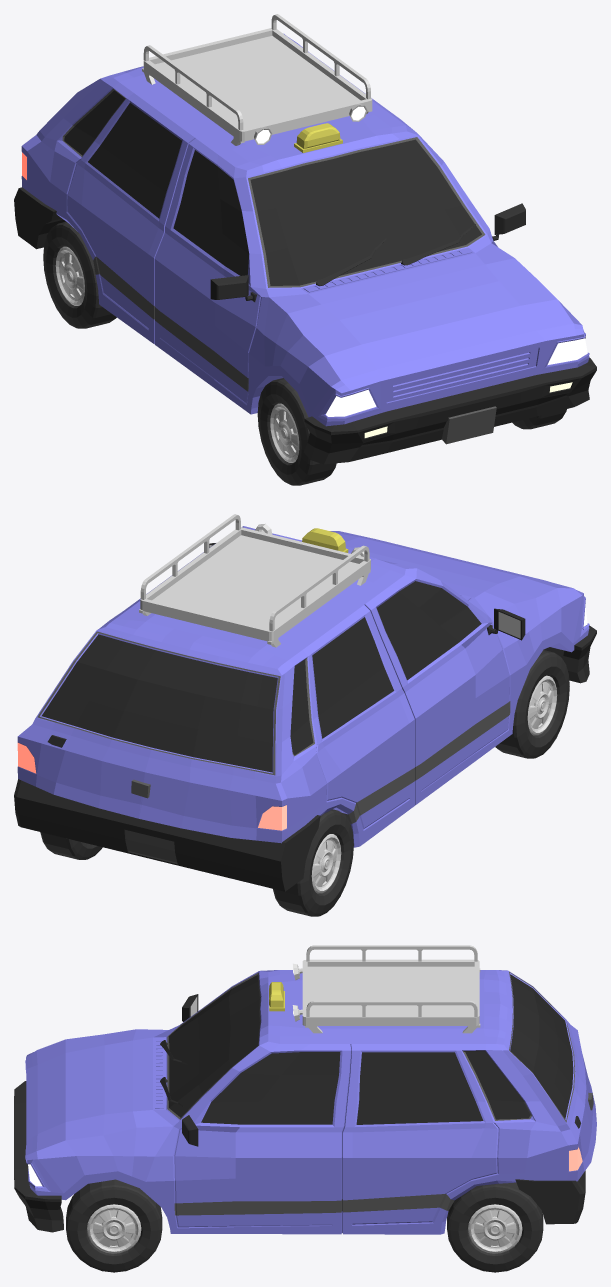
File: LowpolyCar.gltf
The picture shows the model from 3 angles, top to bottom: view 1: azimuth 30°, elevation 25°; view 2: azimuth 150°, elevation 25°; view 3: azimuth 270°, elevation 25°; orthographic projection. The views are drawn at different scales.
Visible parts, largest first — view 1: Car Body, Wheel_FR, Wheel_BR; view 2: Car Body, Wheel_FR, Wheel_BR, Wheel_BL; view 3: Car Body, Wheel_FL, Wheel_BL.
Boxes of the visible parts, left/top/right/bottom form: Car Body: left=14, top=14, right=596, bottom=464; Wheel_FR: left=257, top=378, right=336, bottom=485; Wheel_BR: left=43, top=221, right=116, bottom=328; Car Body: left=14, top=514, right=596, bottom=891; Wheel_FR: left=495, top=650, right=569, bottom=758; Wheel_BR: left=273, top=809, right=353, bottom=916; Wheel_BL: left=40, top=832, right=102, bottom=859; Car Body: left=14, top=945, right=596, bottom=1234; Wheel_FL: left=66, top=1179, right=162, bottom=1272; Wheel_BL: left=447, top=1182, right=543, bottom=1272.
Bounding box in the file's own units: 1.69 × 1.42 × 3.09.
